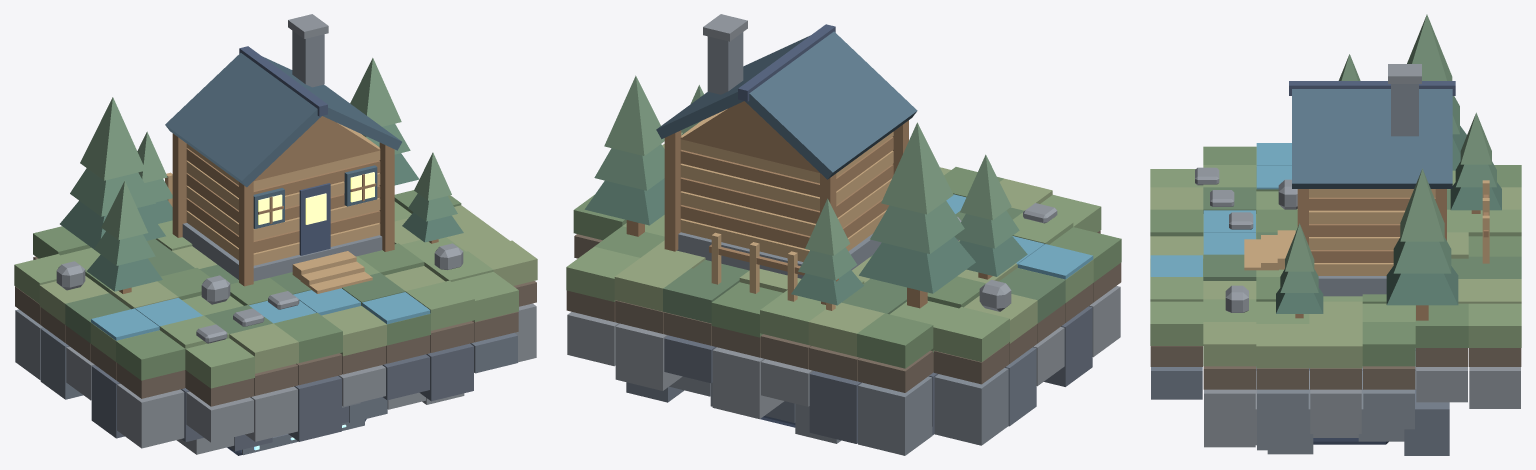
The model's file is spawnloft-island.glb.
The picture shows the model from 3 angles, left to right: view 1: azimuth 30°, elevation 25°; view 2: azimuth 150°, elevation 25°; view 3: azimuth 270°, elevation 25°; orthographic projection. The views are drawn at different scales.
Parts seen in each view (by area): view 1: Roof pitch, Grass tile.001, Corner post, Lower stone, Grass tile.003, Grass tile, Earth edge, Entry step, Lower stone.001, Pine crown.002, Water, Grass tile.002 (+12 smaller); view 2: Corner post, Roof pitch, Lower stone, Earth edge, Grass tile.001, Grass tile, Entry step, Lower stone.003, Grass tile.003, Pine crown, Pine crown.002, Lower stone.001 (+10 smaller); view 3: Roof pitch, Grass tile.003, Grass tile.001, Grass tile, Lower stone, Earth edge, Entry step, Lower stone.003, Corner post, Water, Pine crown.002, Lower stone.007 (+10 smaller).
Part boxes in pixels (box(x1,y1,x2,y2)): Roof pitch: box(165, 53, 401, 228); Grass tile.001: box(14, 201, 518, 388); Corner post: box(118, 116, 394, 293); Lower stone: box(66, 303, 536, 454); Grass tile.003: box(39, 205, 537, 373); Grass tile: box(33, 190, 461, 380); Earth edge: box(15, 256, 536, 406); Entry step: box(165, 123, 380, 293); Lower stone.001: box(91, 343, 473, 451); Pine crown.002: box(80, 58, 401, 240); Water: box(91, 288, 430, 340); Grass tile.002: box(65, 239, 405, 343); Corner post: box(626, 101, 992, 308); Roof pitch: box(656, 31, 917, 179); Lower stone: box(567, 286, 1120, 419); Earth edge: box(566, 230, 1121, 392); Grass tile.001: box(566, 195, 1101, 362); Grass tile: box(573, 167, 1121, 368); Entry step: box(680, 109, 893, 310); Lower stone.003: box(669, 368, 1008, 455); Grass tile.003: box(614, 132, 1052, 356); Pine crown: box(584, 178, 1027, 293); Pine crown.002: box(604, 75, 1011, 220); Lower stone.001: box(664, 306, 1092, 443); Roof pitch: box(1292, 89, 1452, 188); Grass tile.003: box(1150, 187, 1521, 368); Grass tile.001: box(1150, 147, 1521, 347); Grass tile: box(1150, 146, 1521, 366); Lower stone: box(1204, 367, 1520, 447); Earth edge: box(1150, 346, 1521, 389); Entry step: box(1244, 180, 1489, 275); Lower stone.003: box(1257, 351, 1416, 454); Corner post: box(1297, 189, 1488, 320); Water: box(1150, 143, 1291, 276); Pine crown.002: box(1338, 14, 1452, 241); Lower stone.007: box(1151, 348, 1449, 455).
Size of the model in its own units: 6.3 by 5.48 by 4.9.
